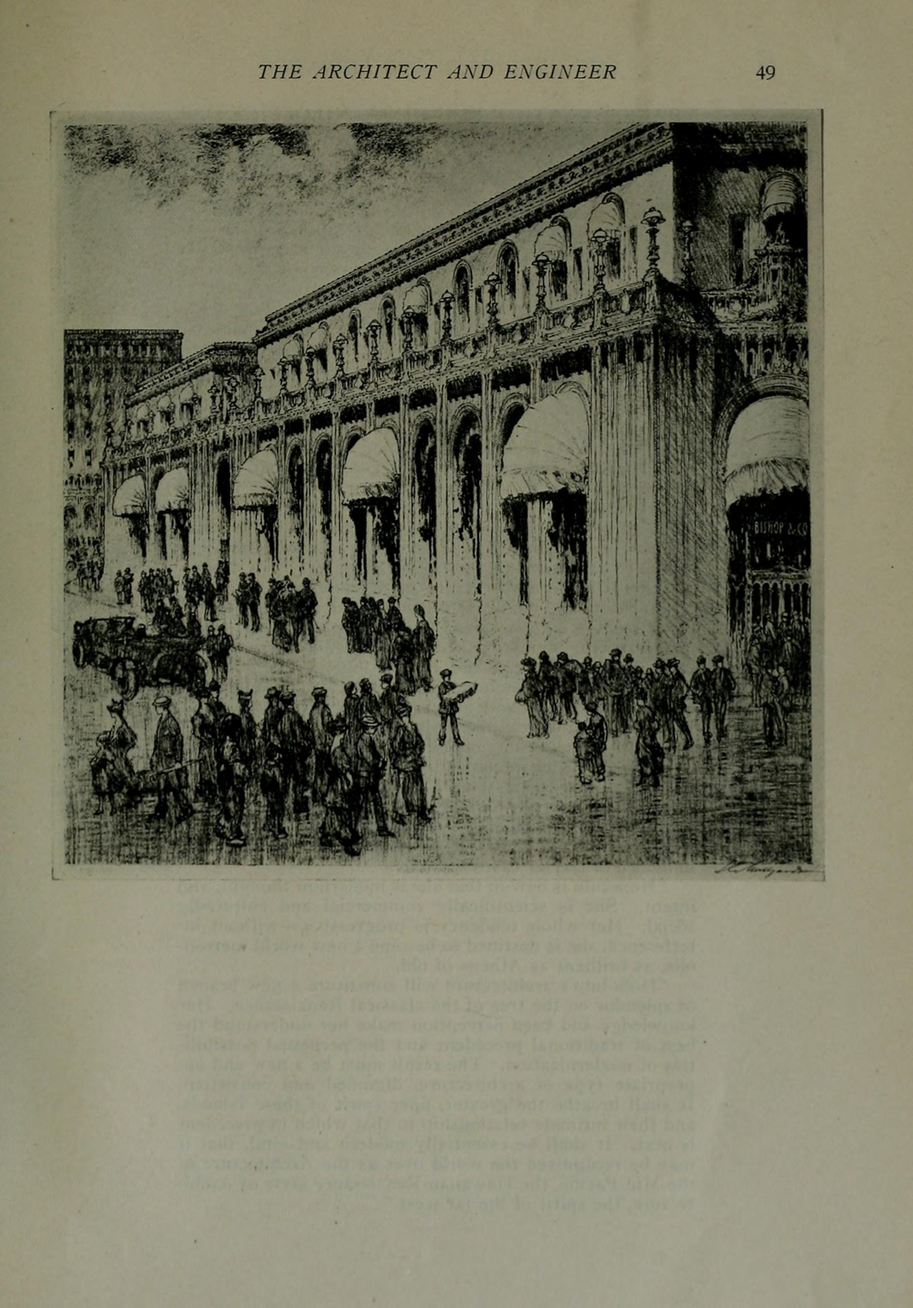fachada: (49, 123, 821, 728)
